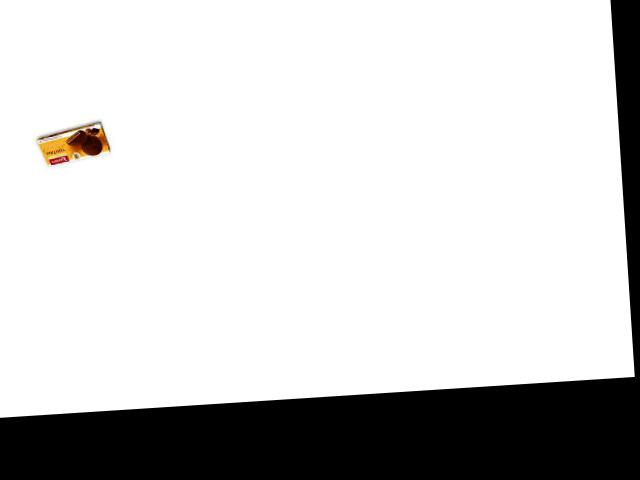chocolate: (25, 128, 115, 168)
